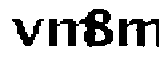8: (82, 6, 116, 50)
m: (116, 13, 160, 51), (47, 18, 98, 50)
v: (7, 17, 44, 49)
